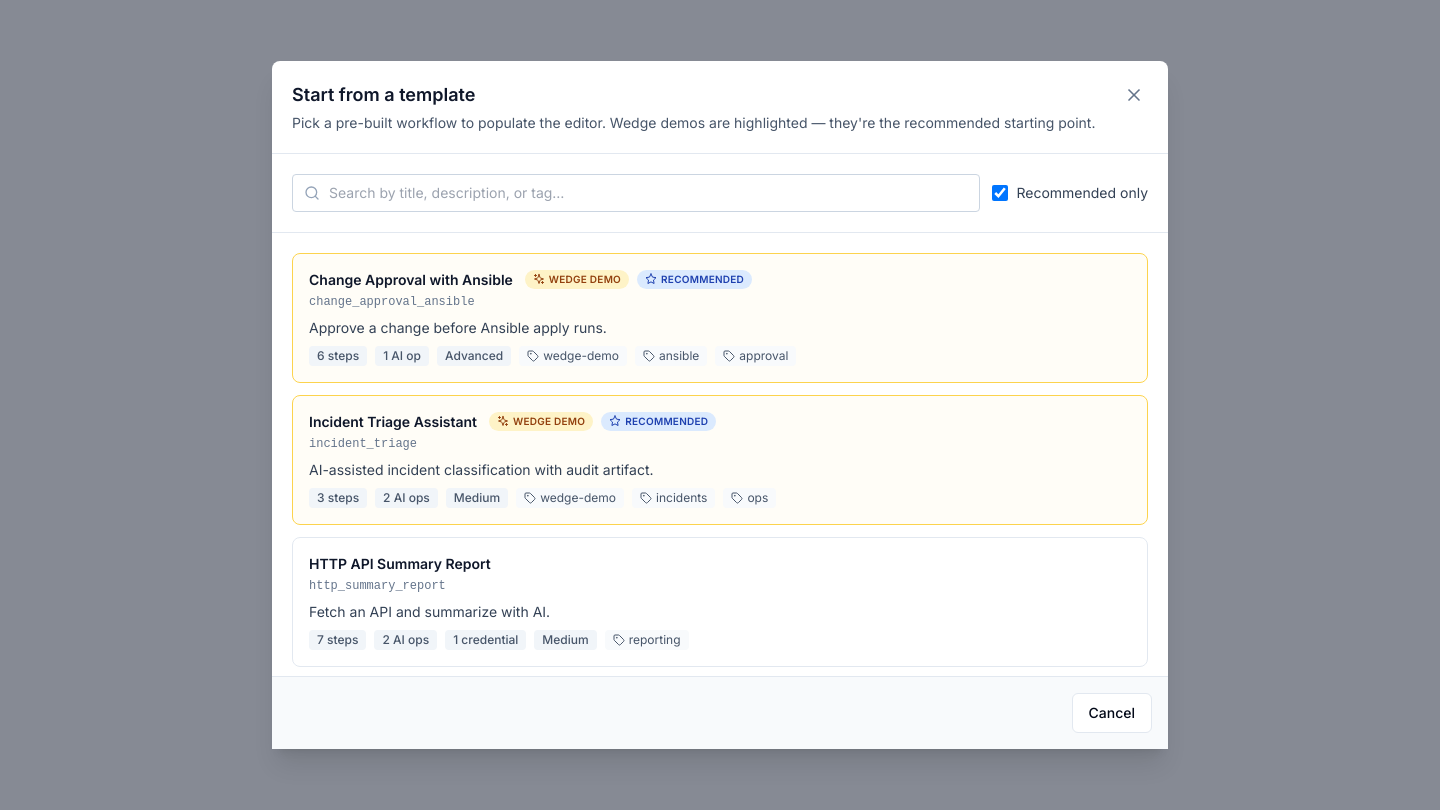
TemplatePicker › filters by search query against title, description, and tags
In the search field with test id "template-picker-search": (636, 193) [292, 174, 980, 212], type "ansible"
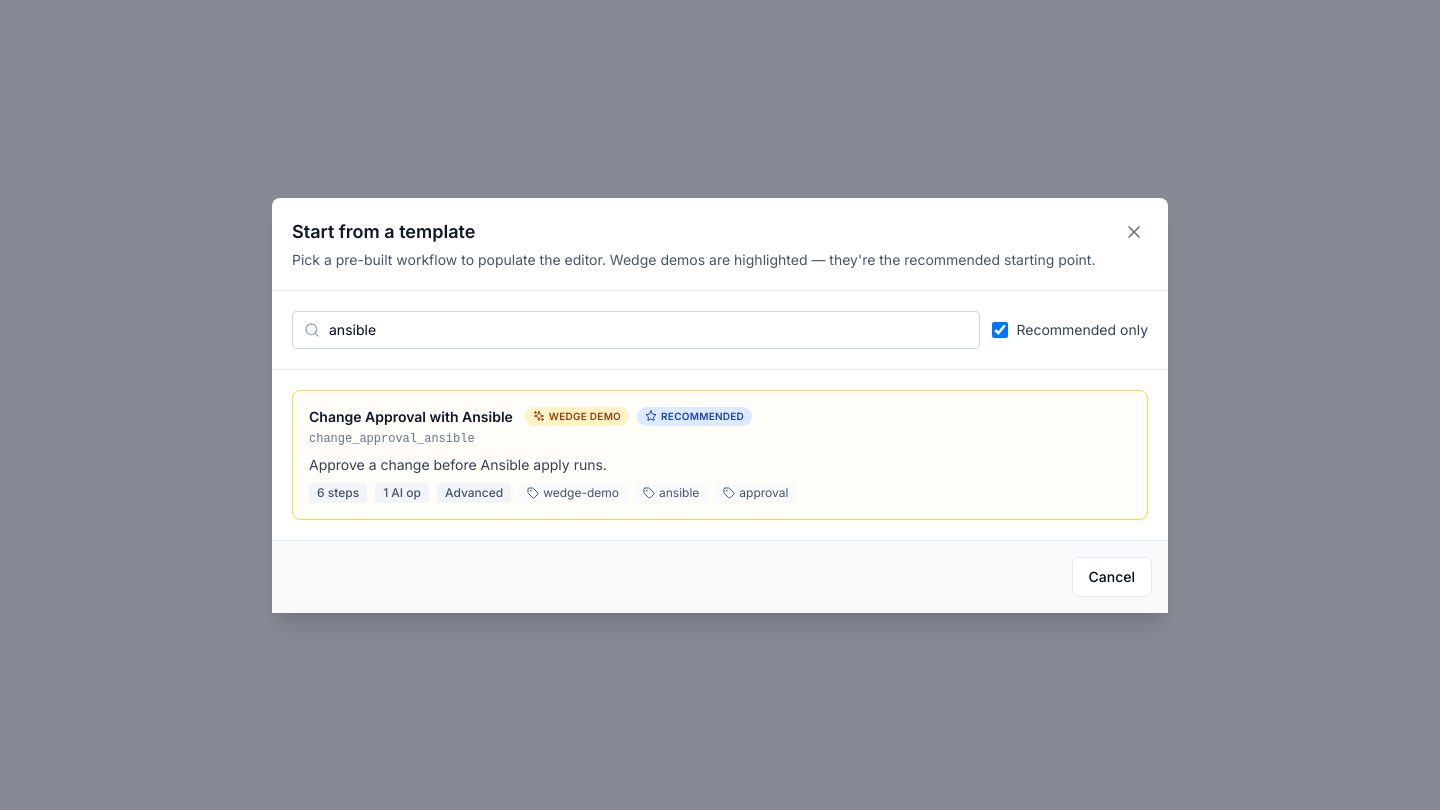
Expected: the button with test id "template-picker-row-change_approval_ansible" is shown, [292, 390, 1148, 520]
Now the button with test id "template-picker-row-incident_triage" is gone
